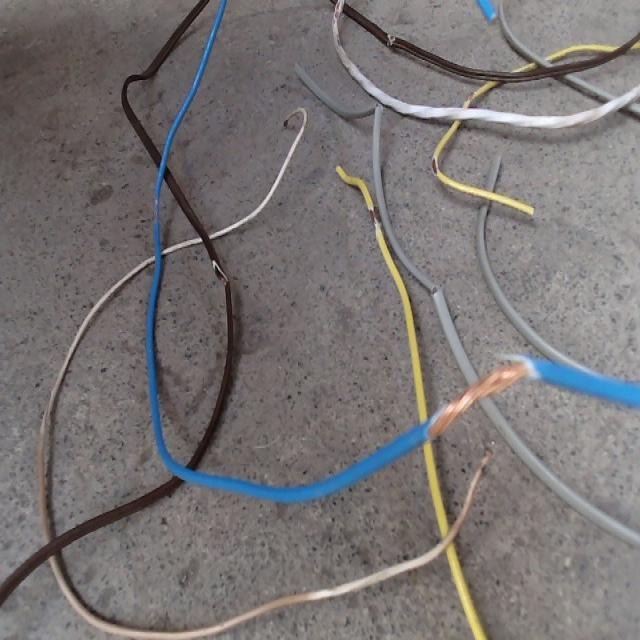-: (425, 357, 538, 435), (210, 258, 228, 286), (367, 204, 379, 229), (430, 155, 438, 176), (430, 282, 440, 294)
